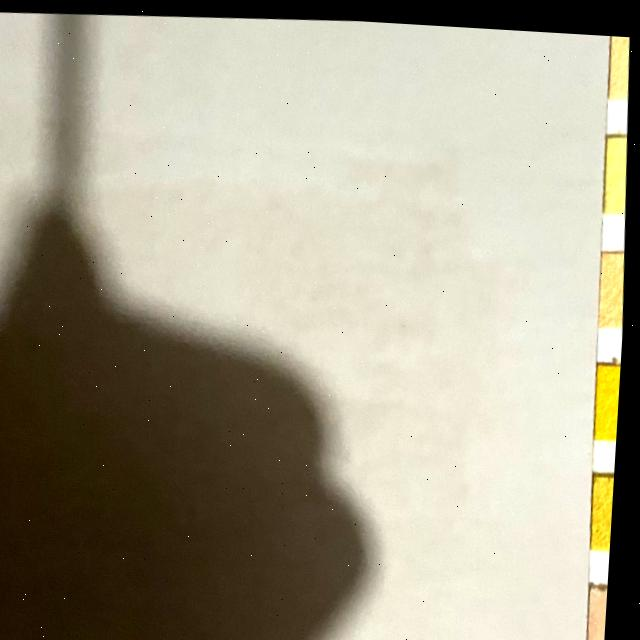Blood: (599, 358, 625, 431)
Ketone: (595, 581, 614, 640)
Protein: (604, 129, 631, 204)
SpGravity: (597, 470, 619, 540)
Urobilinogen: (610, 29, 631, 89)
pH: (603, 244, 629, 317)
